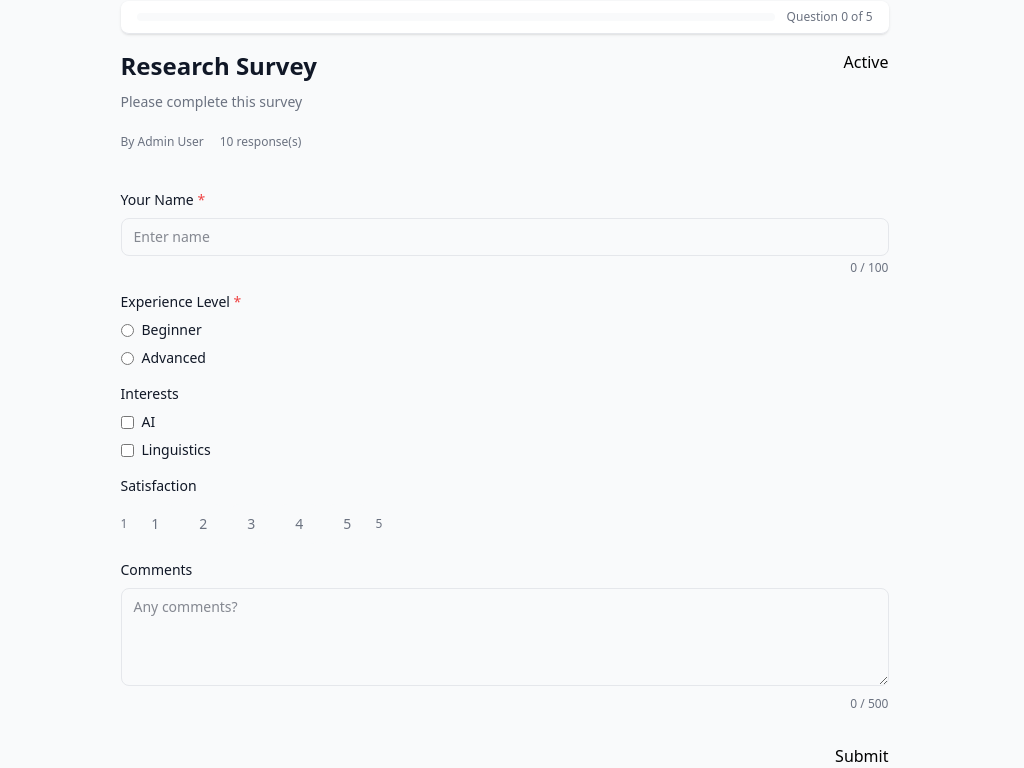
FormView › shows error on submit failure
The width and height of the screenshot is (1024, 768).
(page scrolled)
Click the button "Submit". click: (862, 756)
box: [835,744,888,767]
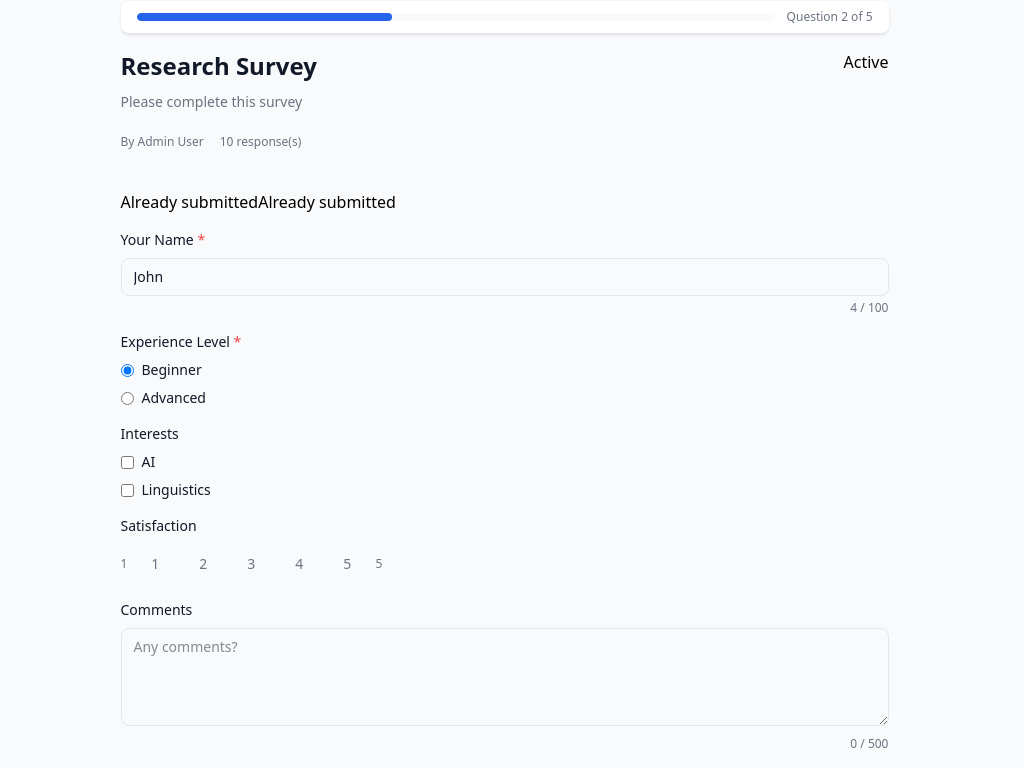
Now the text "Already submitted" is shown, box [120,191,258,213]
